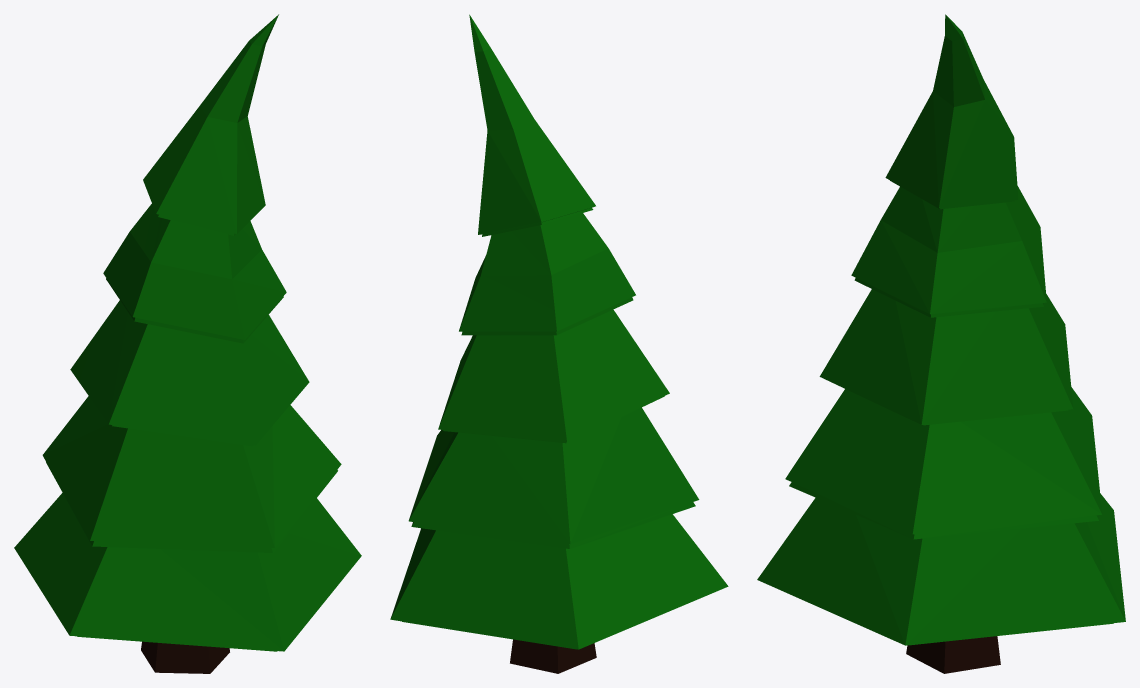
File: PineTree2.obj
The picture shows the model from 3 angles, left to right: view 1: azimuth 30°, elevation 25°; view 2: azimuth 150°, elevation 25°; view 3: azimuth 270°, elevation 25°; orthographic projection. The views are drawn at different scales.
Parts seen in each view (by area): view 1: Cylinder.001; view 2: Cylinder.001; view 3: Cylinder.001.
Part boxes in pixels (box(x1,y1,x2,y2)): Cylinder.001: box(14, 14, 361, 673); Cylinder.001: box(390, 14, 728, 673); Cylinder.001: box(757, 14, 1125, 673).
Size of the model in its own units: 2.05 by 4.07 by 1.98.
1 material, 1 textured.
